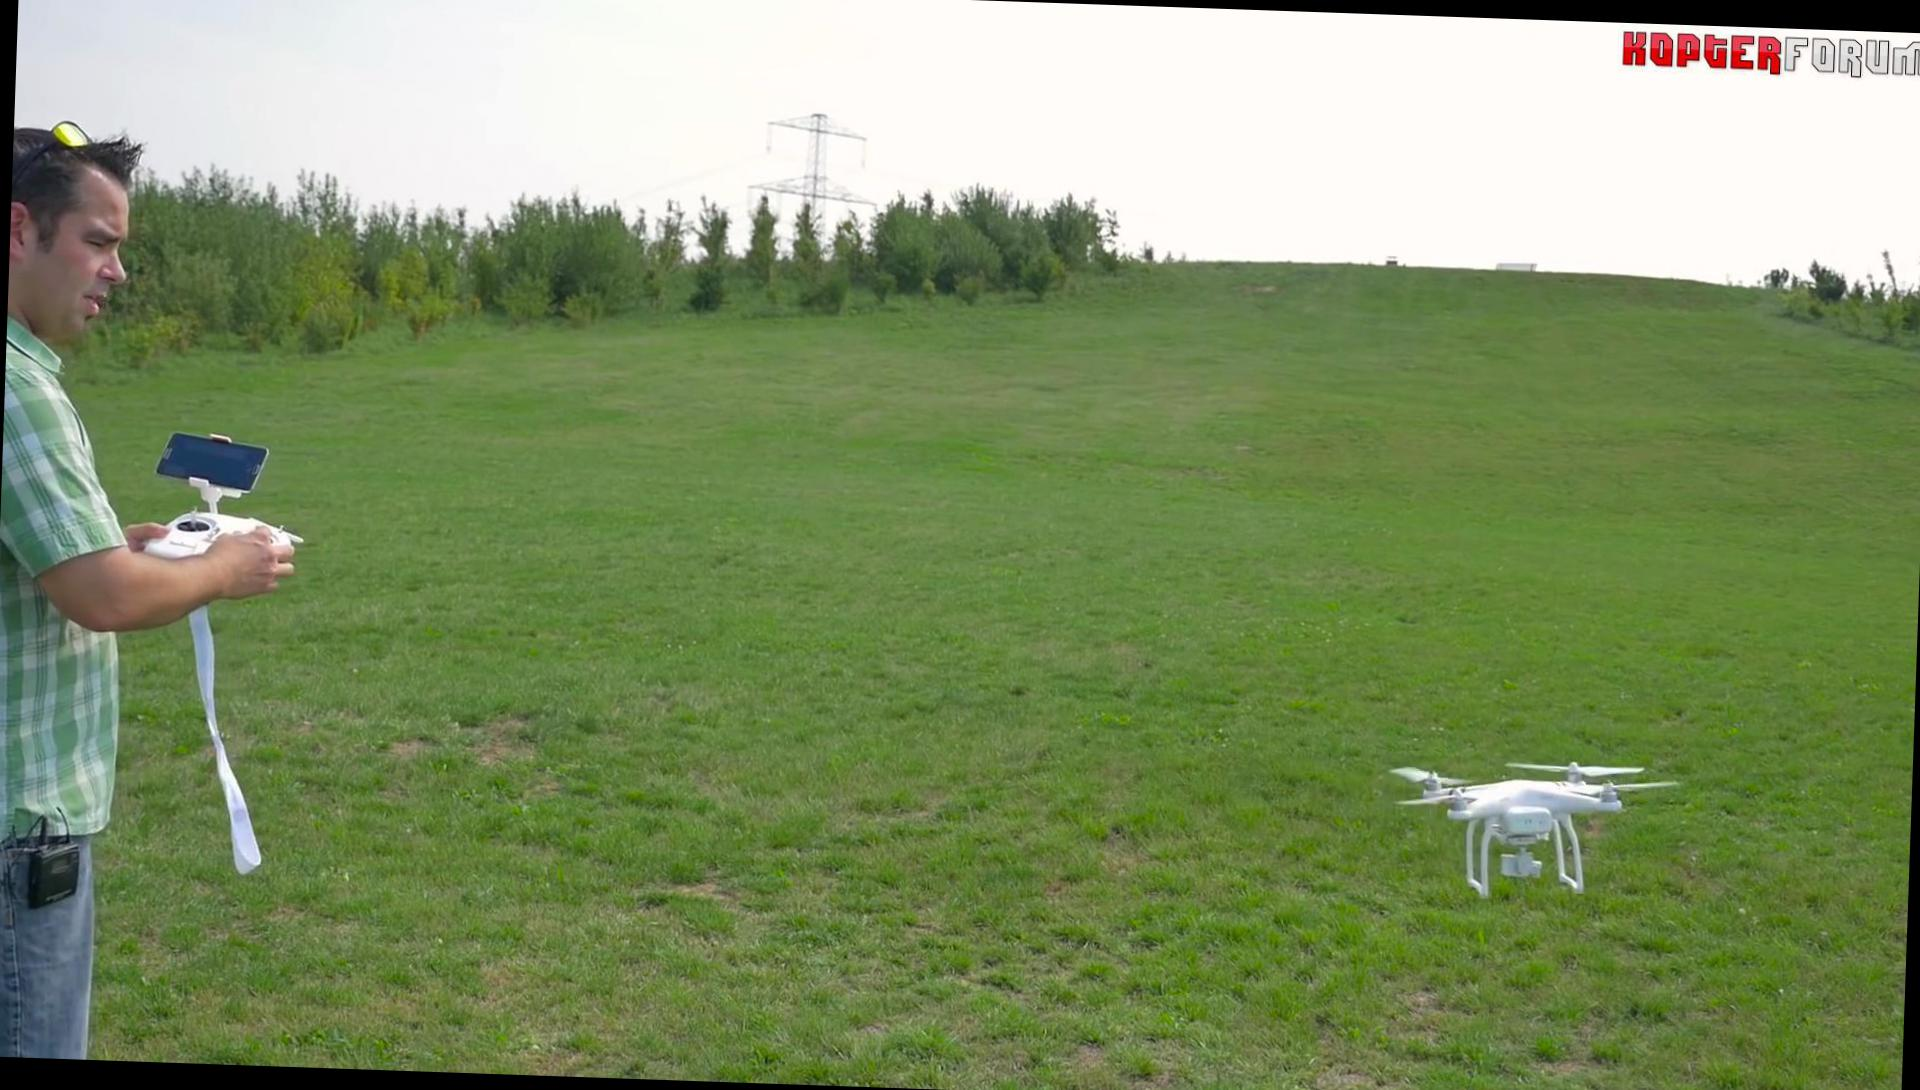drone: (1385, 749, 1679, 902)
